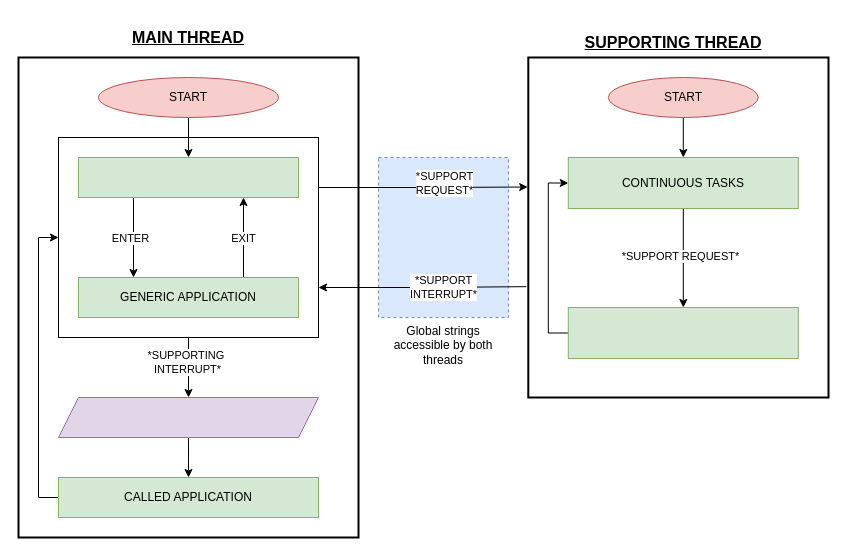
This 846x555 diagram has some shape labels left out. The shapes that lost their labels are listed below. From the top down, each one's centre as x and y in pixels, then its label:
At pixel 188 177: "HOME APPLICATION".
At pixel 682 332: "REQUESTED TASK".
At pixel 188 417: "INTERRUPT HANDLING".
